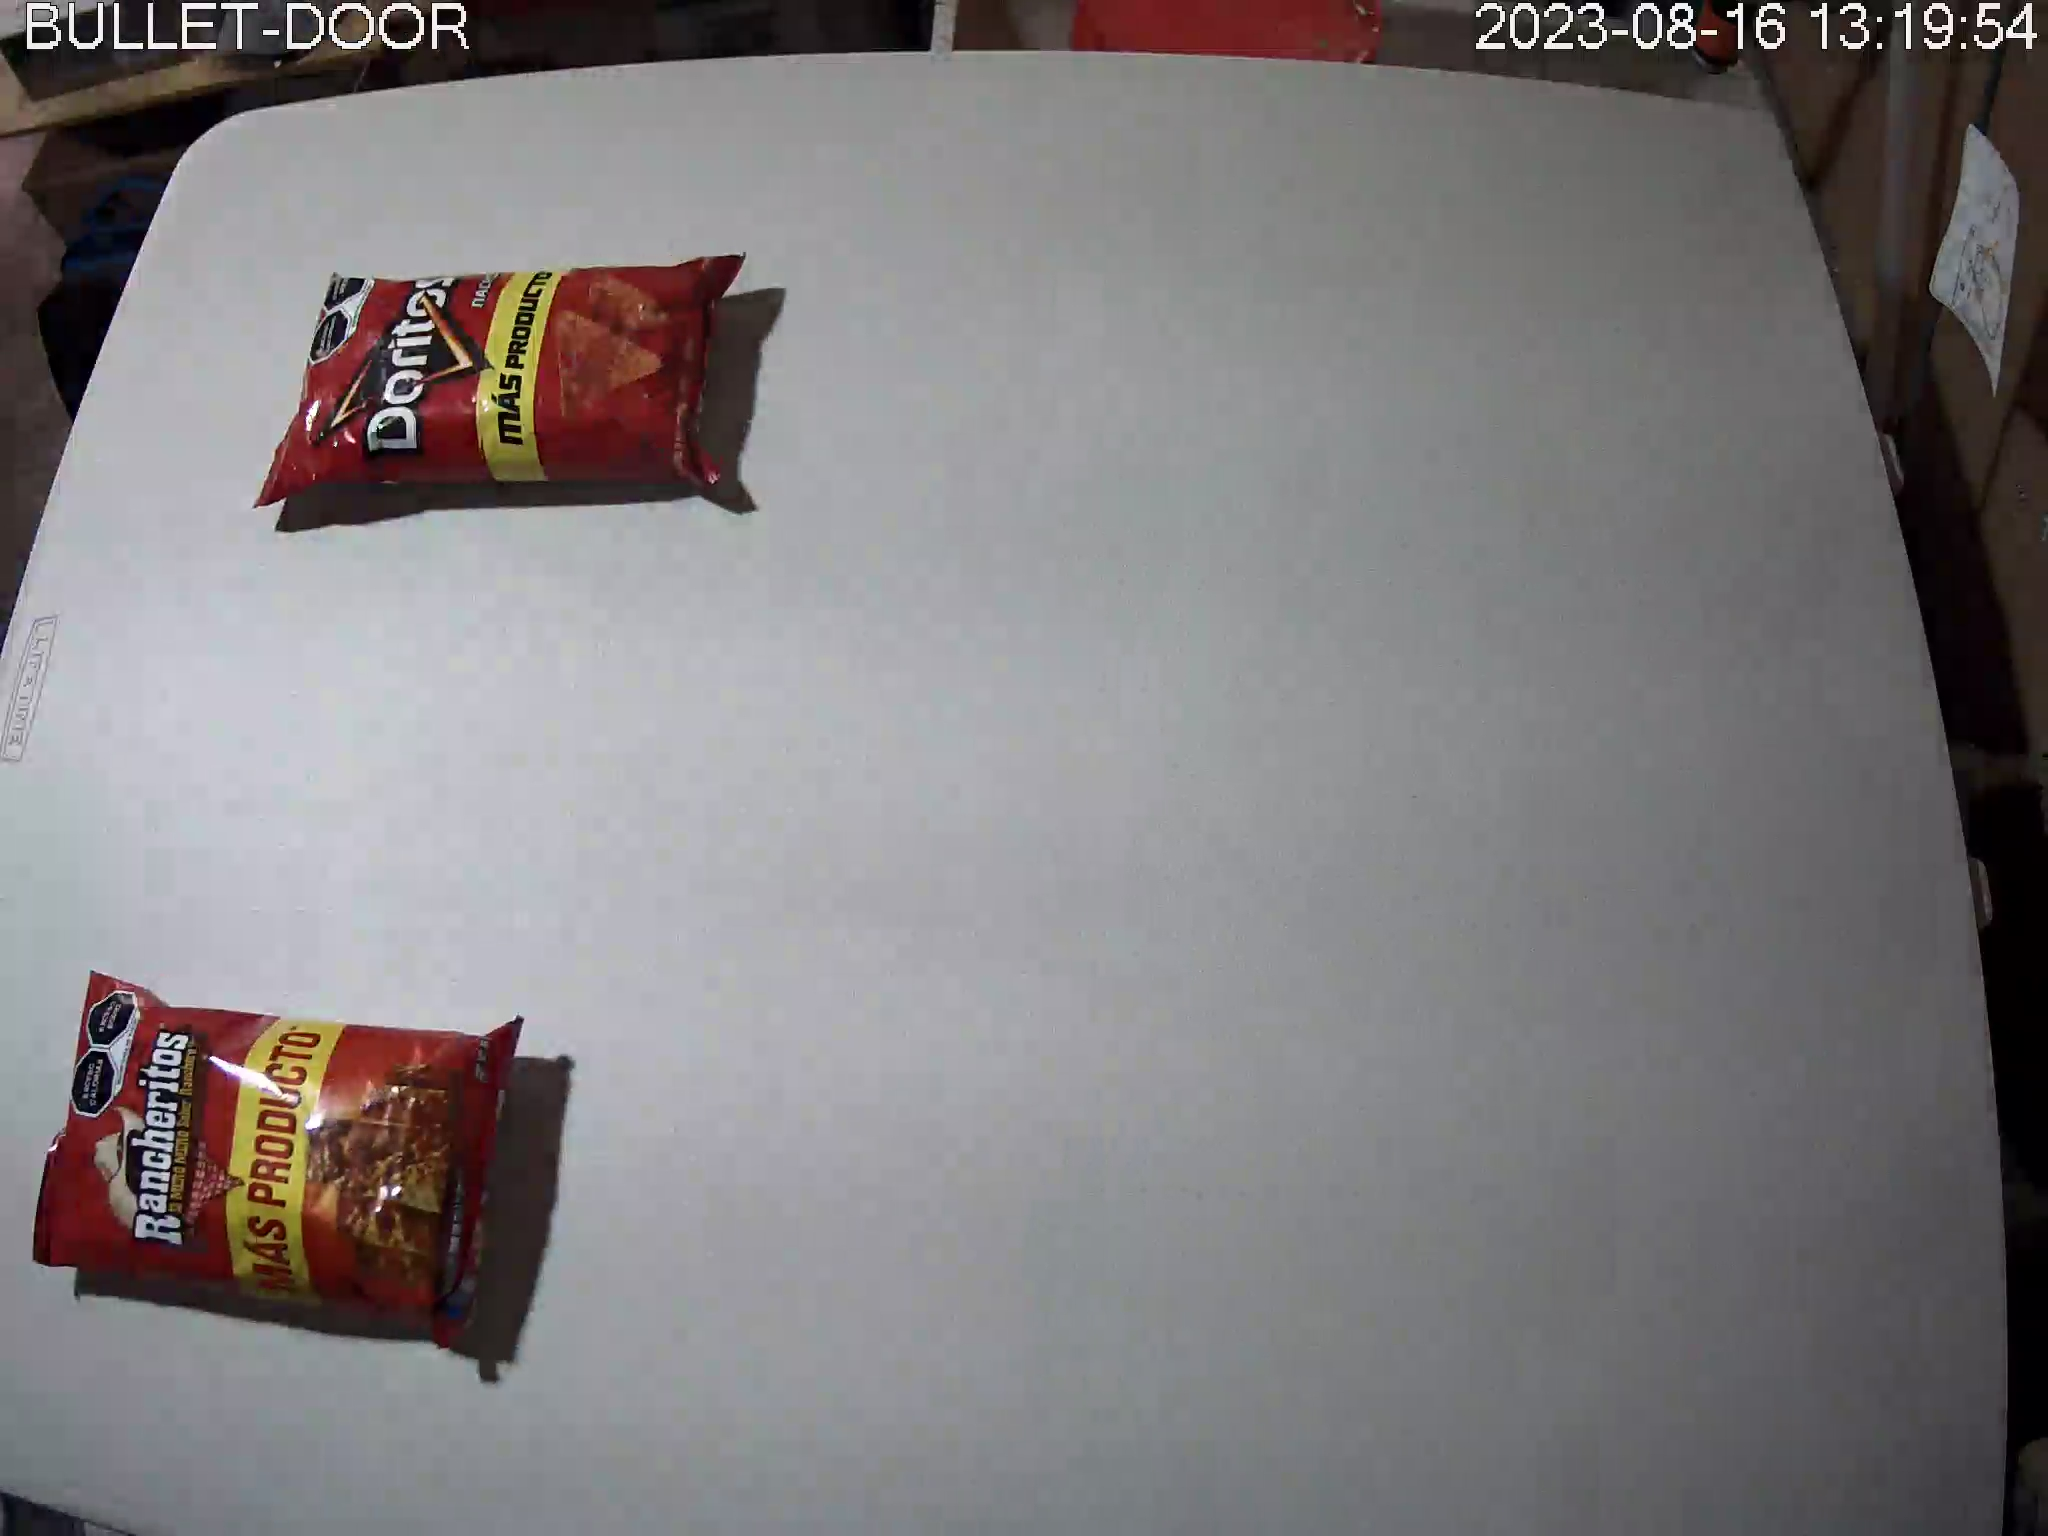DoritosN_61_F: (252, 248, 748, 510)
Rancheritos_58_F: (32, 966, 531, 1347)
